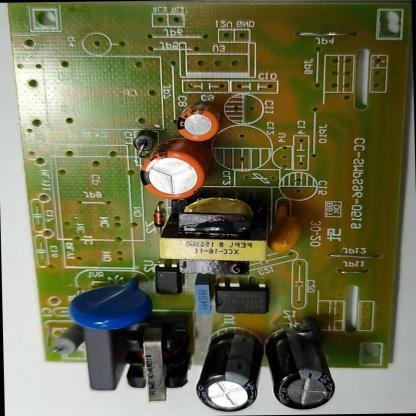Cap1: (138, 138, 211, 203)
Cap2: (171, 103, 223, 145)
Cap3: (191, 328, 264, 416)
Cap4: (267, 324, 337, 412)
MOSFET: (208, 281, 272, 318)
Mov: (66, 274, 152, 331)
Resistor: (49, 323, 87, 360)
Transformer: (152, 191, 274, 275), (116, 315, 196, 406)
